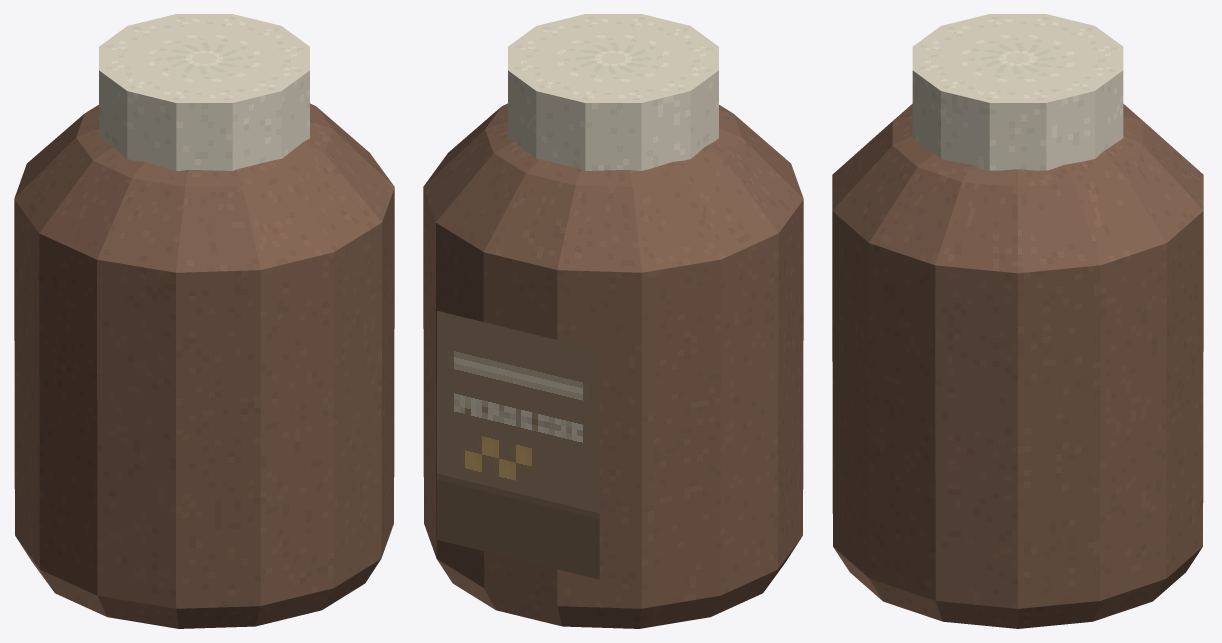
Rendered from chem_hydrogen_peroxide.glb.
The picture shows the model from 3 angles, left to right: view 1: azimuth 30°, elevation 25°; view 2: azimuth 150°, elevation 25°; view 3: azimuth 270°, elevation 25°; orthographic projection.
Visible parts, largest first — view 1: block_opaque medicine bottle, block_sealed cap; view 2: block_opaque medicine bottle, block_hydrogen peroxide label, block_sealed cap; view 3: block_opaque medicine bottle, block_sealed cap.
Boxes of the visible parts, x1,y1,x2,y2 form: block_opaque medicine bottle: [14, 103, 394, 628]; block_sealed cap: [99, 14, 309, 170]; block_opaque medicine bottle: [423, 103, 803, 628]; block_hydrogen peroxide label: [437, 310, 599, 579]; block_sealed cap: [508, 14, 718, 170]; block_opaque medicine bottle: [832, 104, 1203, 628]; block_sealed cap: [912, 14, 1123, 170].
Size of the model in its own units: 0.0831 by 0.1197 by 0.0819.
Materials: 1 (1 with a texture image).
